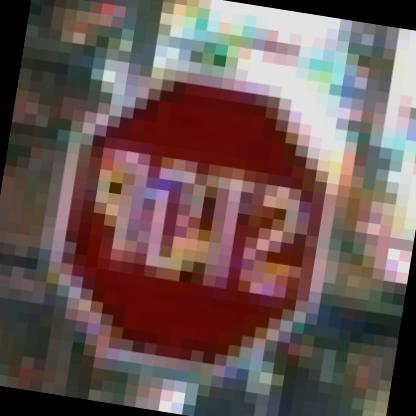stop: (22, 36, 370, 412)
